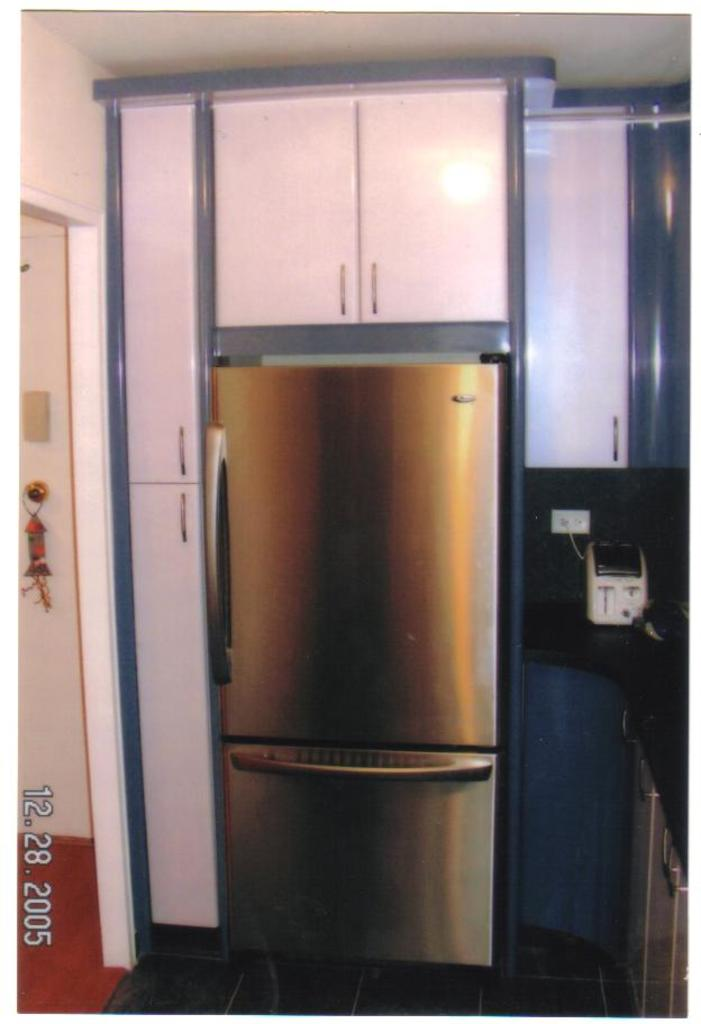cabinet door: (525, 117, 629, 468), (356, 101, 506, 327), (215, 98, 360, 319), (131, 488, 203, 914), (122, 111, 197, 482), (609, 680, 632, 933), (650, 804, 674, 1024), (630, 757, 651, 981), (669, 868, 698, 1013)
handle: (231, 741, 490, 802), (202, 439, 238, 674), (173, 481, 192, 548), (605, 404, 622, 465), (666, 838, 678, 903), (656, 812, 668, 876), (171, 424, 185, 472), (618, 698, 630, 754), (370, 255, 382, 310), (637, 747, 648, 806), (337, 262, 348, 314)
refrigerator door: (213, 368, 499, 745), (223, 744, 490, 959)
